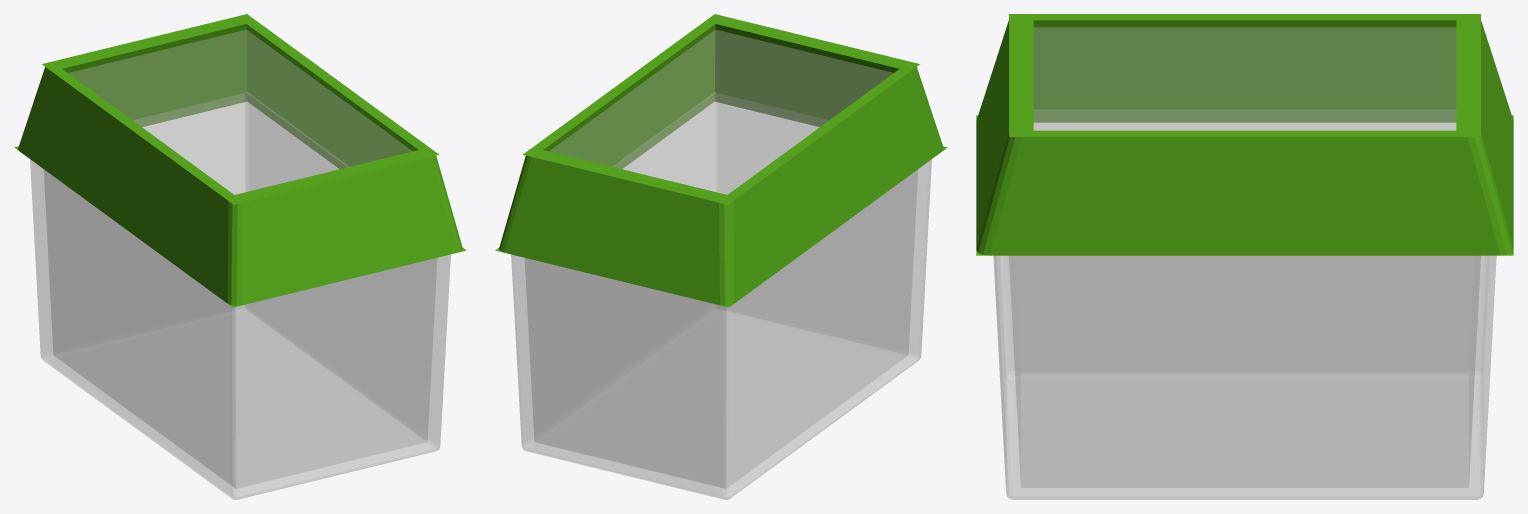
Rendered from kago.fbx.
3 renders of one model, left to right at view 1: azimuth 30°, elevation 25°; view 2: azimuth 150°, elevation 25°; view 3: azimuth 270°, elevation 25°, orthographic. The views are drawn at different scales.
Visible parts, largest first — view 1: KagoBase, Huta; view 2: KagoBase, Huta; view 3: KagoBase, Huta.
Part boxes in pixels (box(x1,y1,x2,y2)): KagoBase: box(30, 92, 450, 499); Huta: box(14, 14, 466, 307); KagoBase: box(511, 92, 931, 499); Huta: box(495, 14, 947, 307); KagoBase: box(993, 110, 1496, 499); Huta: box(976, 14, 1513, 255).
Size of the model in its own units: 224 by 272 by 363.
